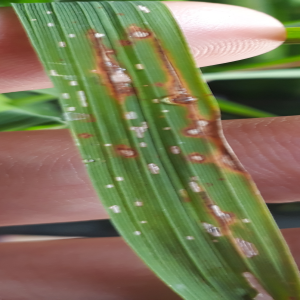Rice_Blast: (155, 59, 198, 113), (93, 48, 134, 100), (99, 133, 142, 180), (220, 229, 271, 263), (207, 143, 251, 180), (199, 198, 251, 229), (56, 121, 106, 153), (174, 113, 223, 145), (234, 266, 277, 300), (189, 215, 228, 249), (179, 172, 209, 196), (183, 146, 206, 173)
